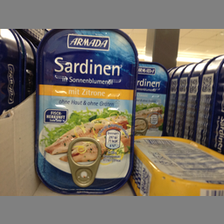fish: (37, 30, 139, 193), (130, 134, 223, 197)
